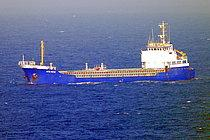Ship: (15, 20, 198, 87)
